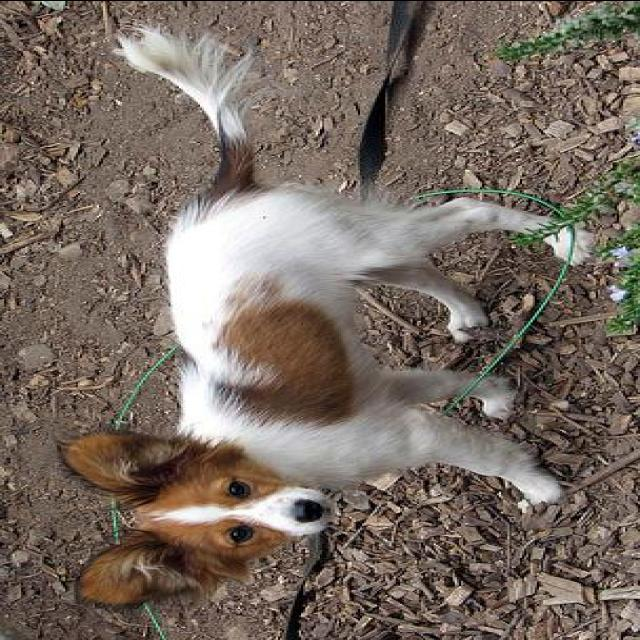papillon: (50, 28, 598, 613)
